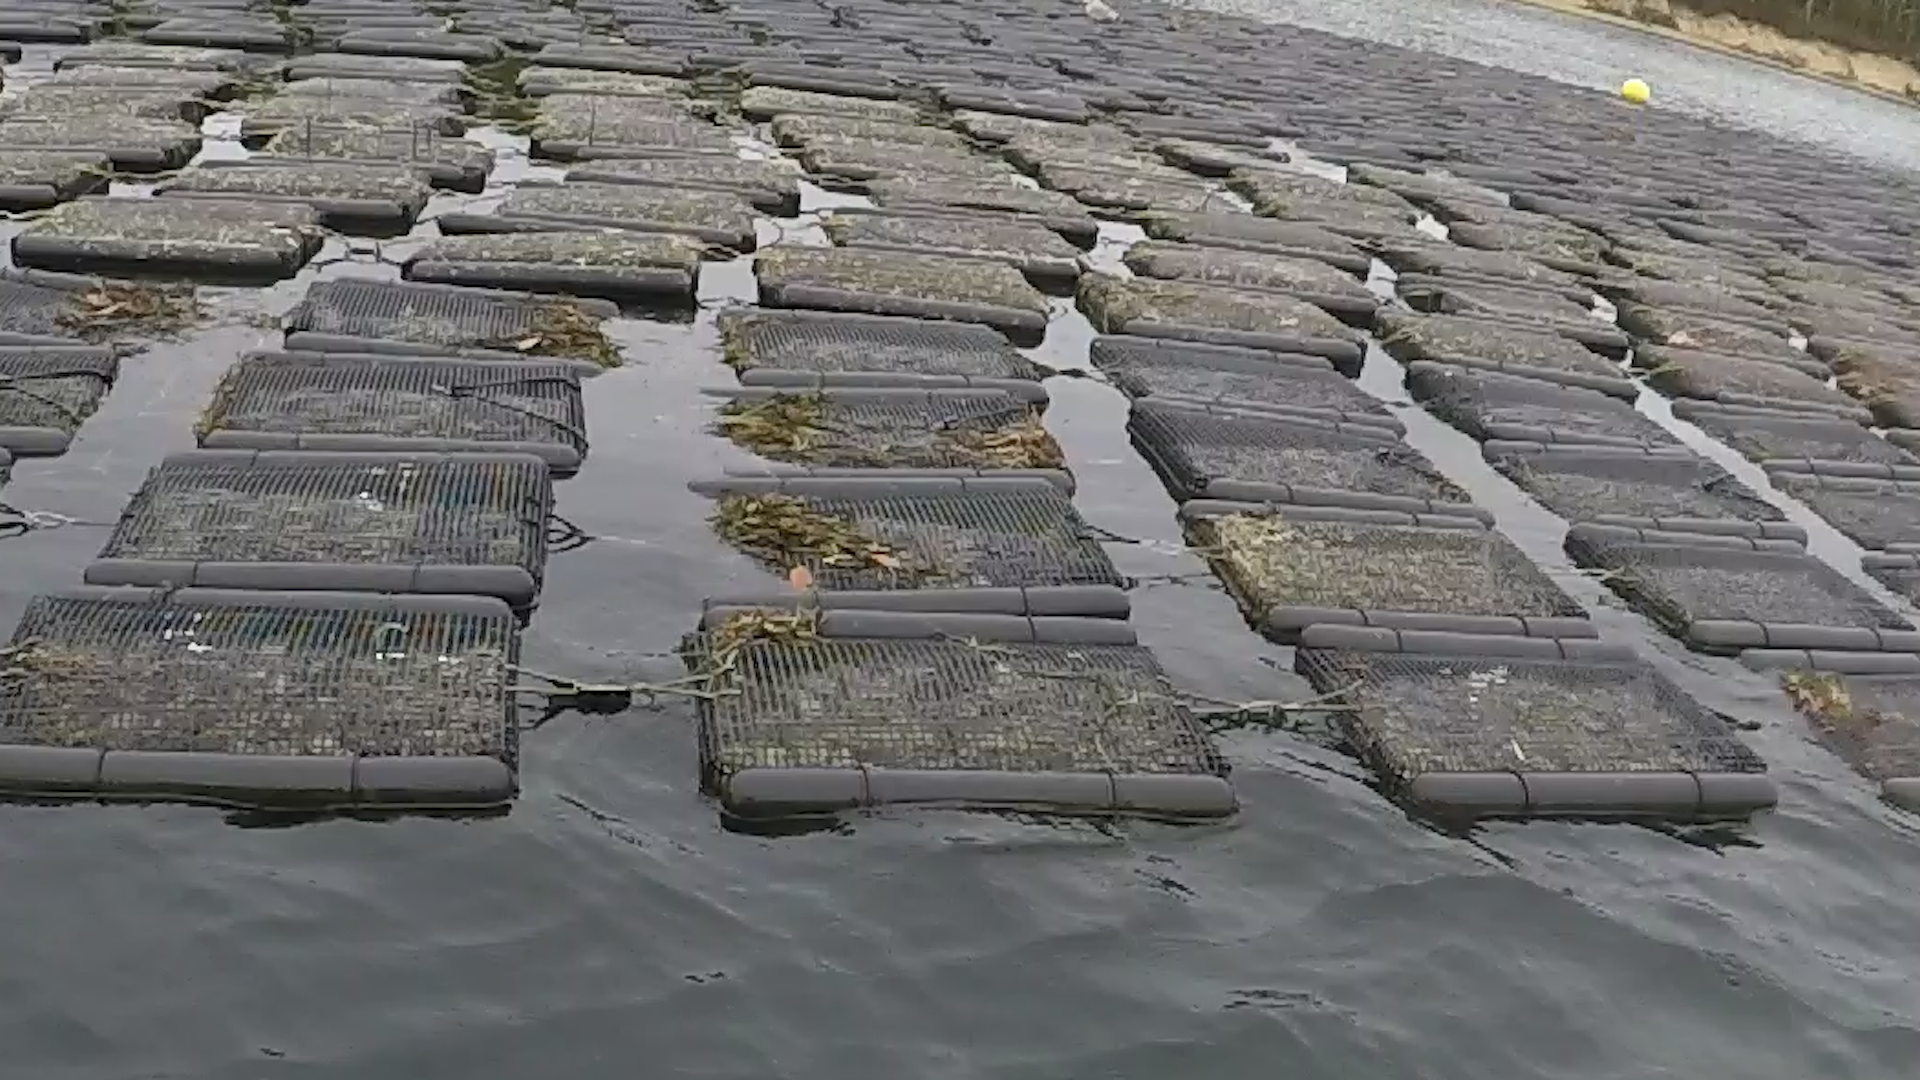bag: (690, 605, 1244, 827), (1, 585, 534, 808), (1291, 625, 1780, 824), (78, 456, 555, 589), (680, 477, 1139, 613), (1166, 492, 1598, 636)
